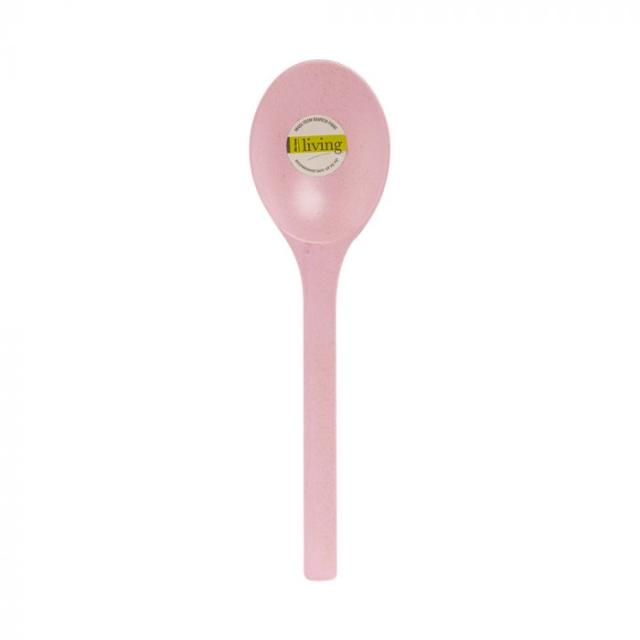spoon: (224, 41, 399, 592)
